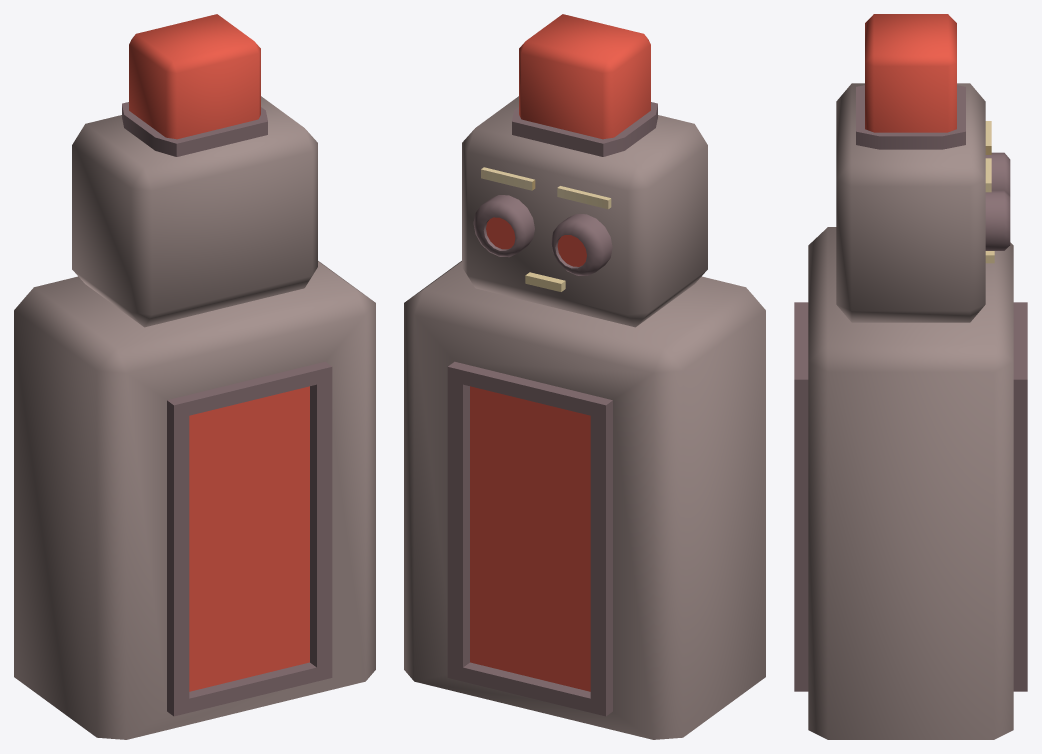
File: Red_Manager.fbx
The picture shows the model from 3 angles, left to right: view 1: azimuth 30°, elevation 25°; view 2: azimuth 150°, elevation 25°; view 3: azimuth 270°, elevation 25°; orthographic projection.
Parts seen in each view (by area): view 1: Body.001, Head.001; view 2: Body.001, Head.001, R_Eye.001, L_Eye.001, R_Brow.001, L_Brow.001; view 3: Body.001, Head.001, L_Eye.001, R_Eye.001.
Part boxes in pixels (left/top/right/bottom): Body.001: left=14, top=261, right=375, bottom=739; Head.001: left=72, top=14, right=317, bottom=327; Body.001: left=404, top=261, right=765, bottom=739; Head.001: left=462, top=14, right=707, bottom=327; R_Eye.001: left=551, top=214, right=612, bottom=275; L_Eye.001: left=473, top=195, right=534, bottom=257; R_Brow.001: left=557, top=186, right=611, bottom=209; L_Brow.001: left=481, top=167, right=535, bottom=190; Body.001: left=794, top=227, right=1027, bottom=739; Head.001: left=836, top=14, right=985, bottom=322; L_Eye.001: left=985, top=190, right=1010, bottom=250; R_Eye.001: left=985, top=152, right=1010, bottom=195.
Size of the model in its own units: 17.55 by 38.22 by 12.66.
